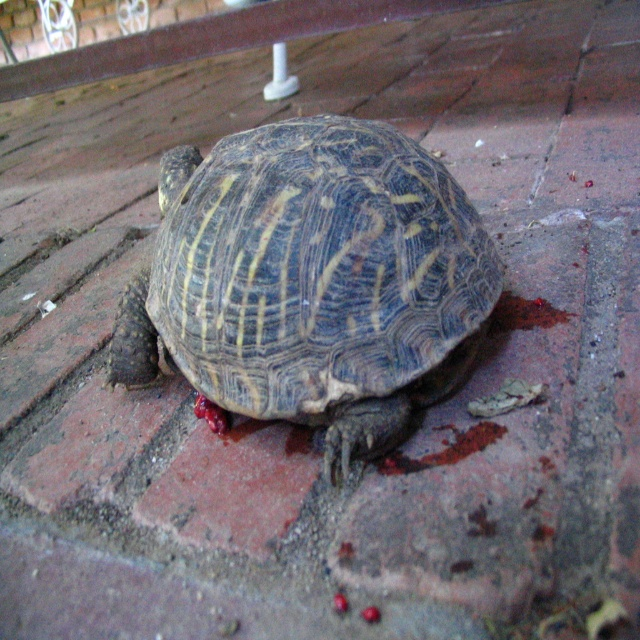Sea turtle: (104, 113, 509, 491)
